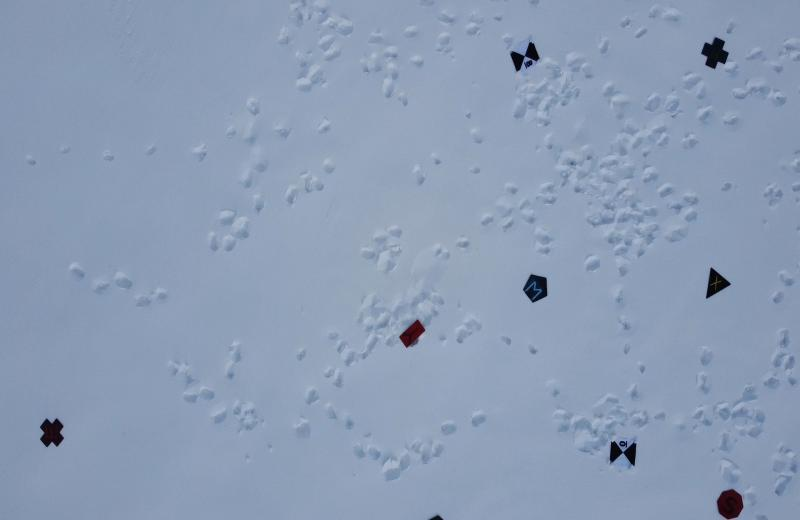Cross: (698, 35, 732, 72), (36, 416, 67, 449)
Octagon: (714, 488, 746, 520)
Pentagon: (521, 268, 552, 304)
Rectangle: (396, 319, 428, 352)
Triangle: (699, 264, 738, 304)
